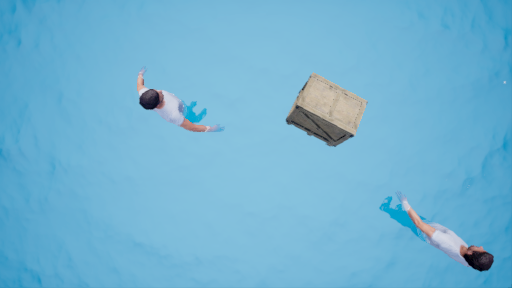person: (368, 192, 492, 273), (131, 62, 225, 144)
